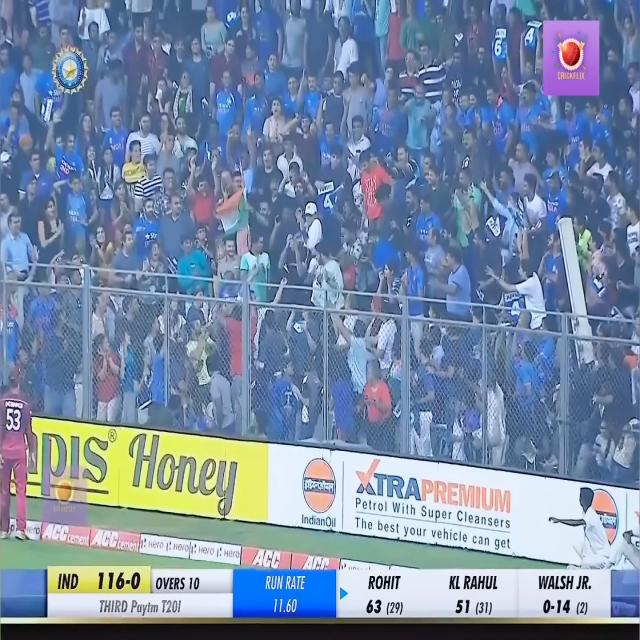fully_visible: (126, 597, 159, 620), (319, 182, 332, 195)
partially_visible: (316, 181, 340, 197)
